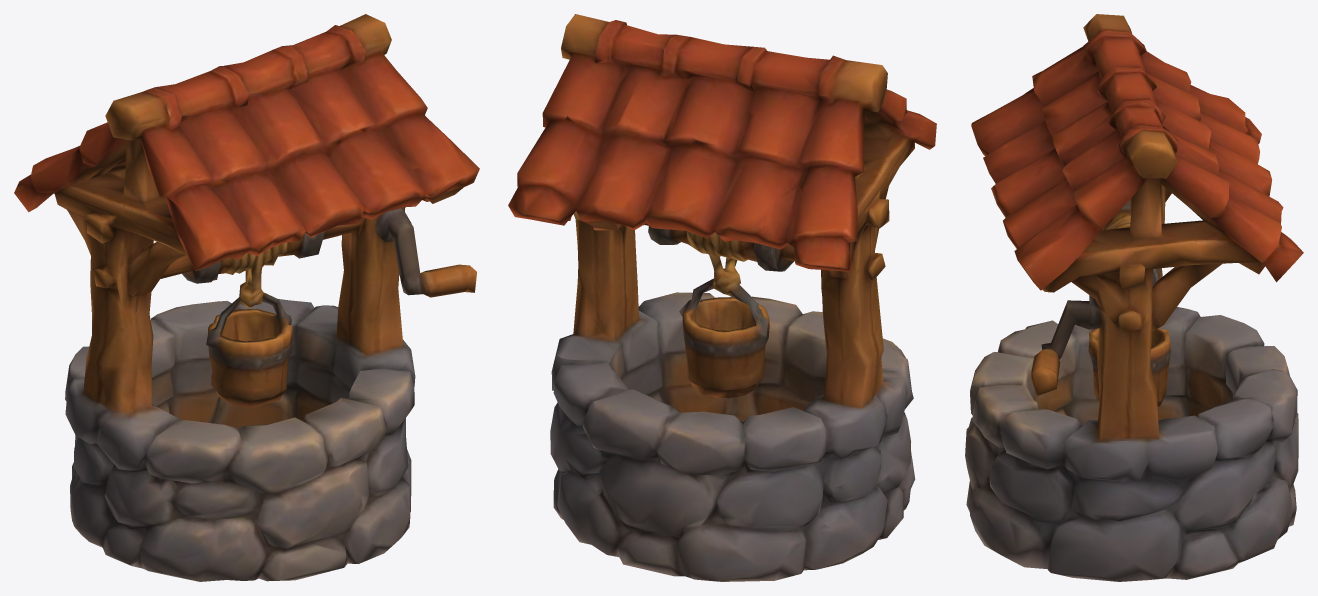
The model's file is well.glb.
3 views of the same model, side by side, from view 1: azimuth 30°, elevation 25°; view 2: azimuth 150°, elevation 25°; view 3: azimuth 270°, elevation 25° (orthographic). The views are drawn at different scales.
Parts seen in each view (by area): view 1: well; view 2: well; view 3: well.
Part boxes in pixels (left/top/right/bottom): well: left=14, top=14, right=479, bottom=581; well: left=508, top=14, right=936, bottom=581; well: left=965, top=14, right=1303, bottom=581.
Size of the model in its own units: 2.63 by 3.2 by 2.23.
1 material, 1 textured.
